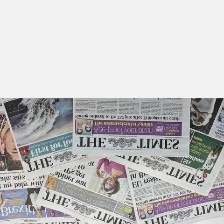news_paper: (105, 97, 224, 197), (0, 103, 88, 224), (0, 98, 113, 181), (70, 97, 192, 157), (122, 161, 224, 224), (34, 158, 130, 223)
